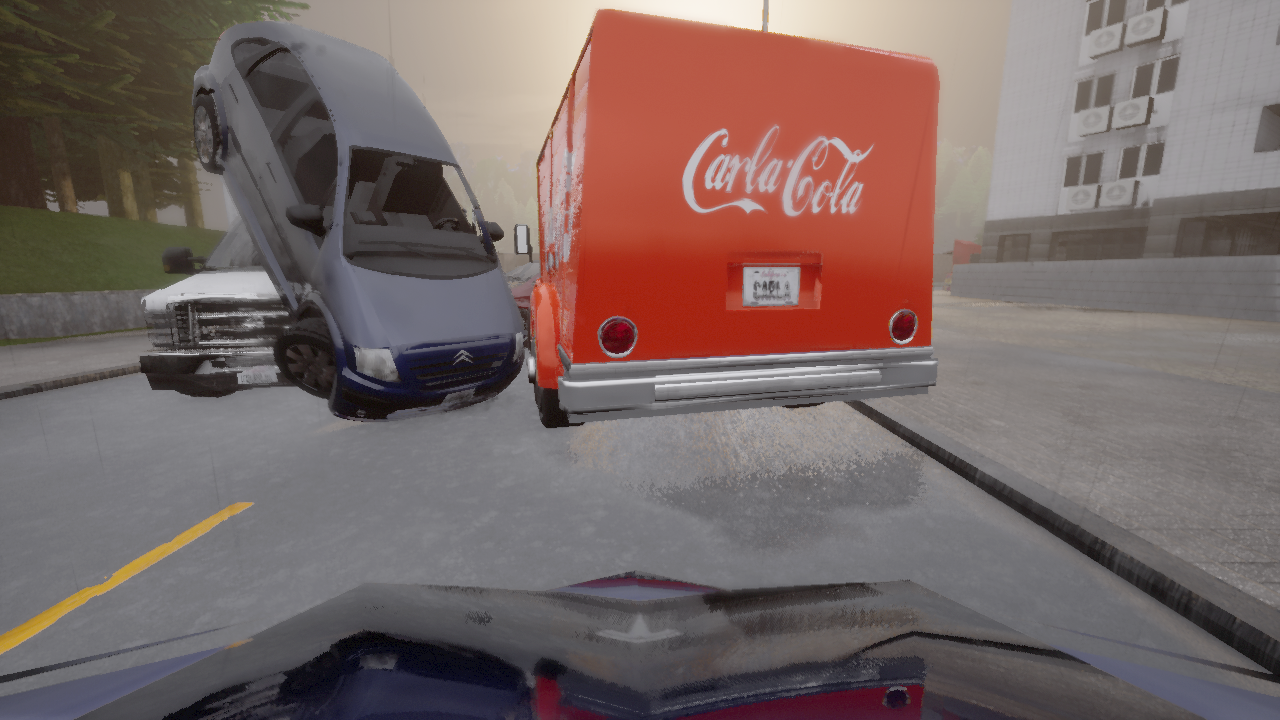cyclist: (0, 569, 1279, 719), (514, 10, 940, 428), (190, 22, 524, 423), (136, 176, 304, 397), (504, 258, 540, 347)
